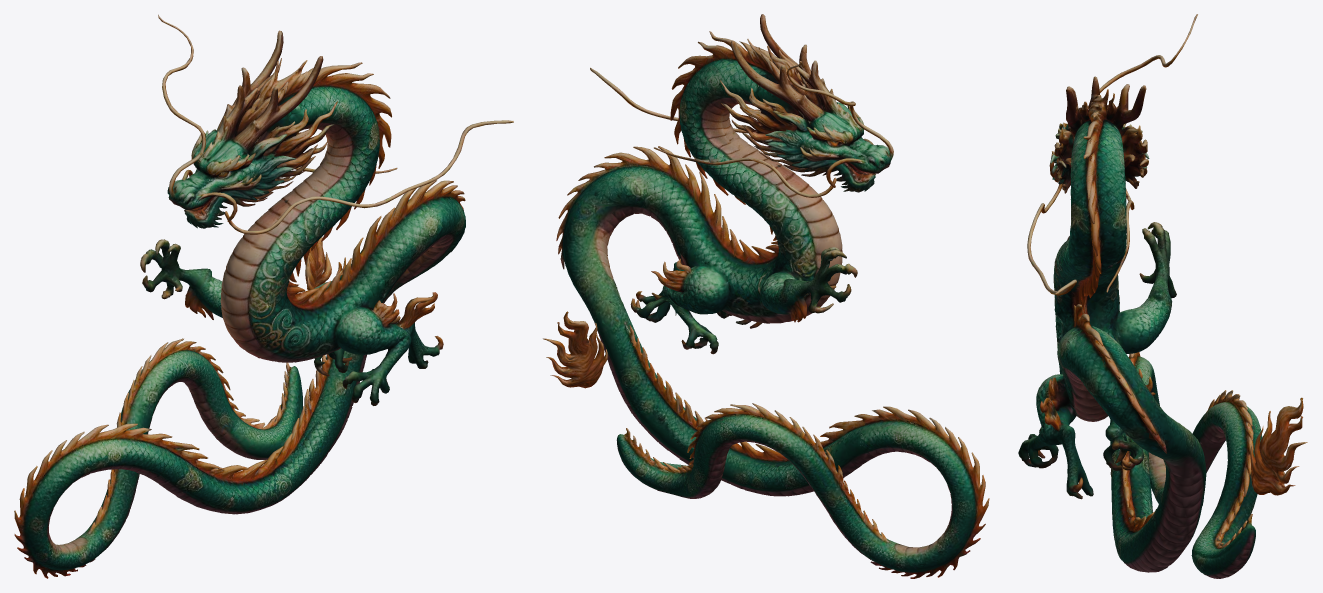
File: dragon_v.glb
3 views of the same model, side by side, from view 1: azimuth 30°, elevation 25°; view 2: azimuth 150°, elevation 25°; view 3: azimuth 270°, elevation 25° (orthographic). The views are drawn at different scales.
Parts seen in each view (by area): view 1: tripo_node_a63860d6-8585-4927-a980-747c99cdbb84; view 2: tripo_node_a63860d6-8585-4927-a980-747c99cdbb84; view 3: tripo_node_a63860d6-8585-4927-a980-747c99cdbb84.
Boxes of the visible parts, x1,y1,x2,y2 form: tripo_node_a63860d6-8585-4927-a980-747c99cdbb84: (14,14,513,578); tripo_node_a63860d6-8585-4927-a980-747c99cdbb84: (543,14,989,578); tripo_node_a63860d6-8585-4927-a980-747c99cdbb84: (1018,14,1307,578).
Bounding box in the file's own units: 0.8945 × 0.9811 × 0.4691.
Materials: 1 (1 with a texture image).
